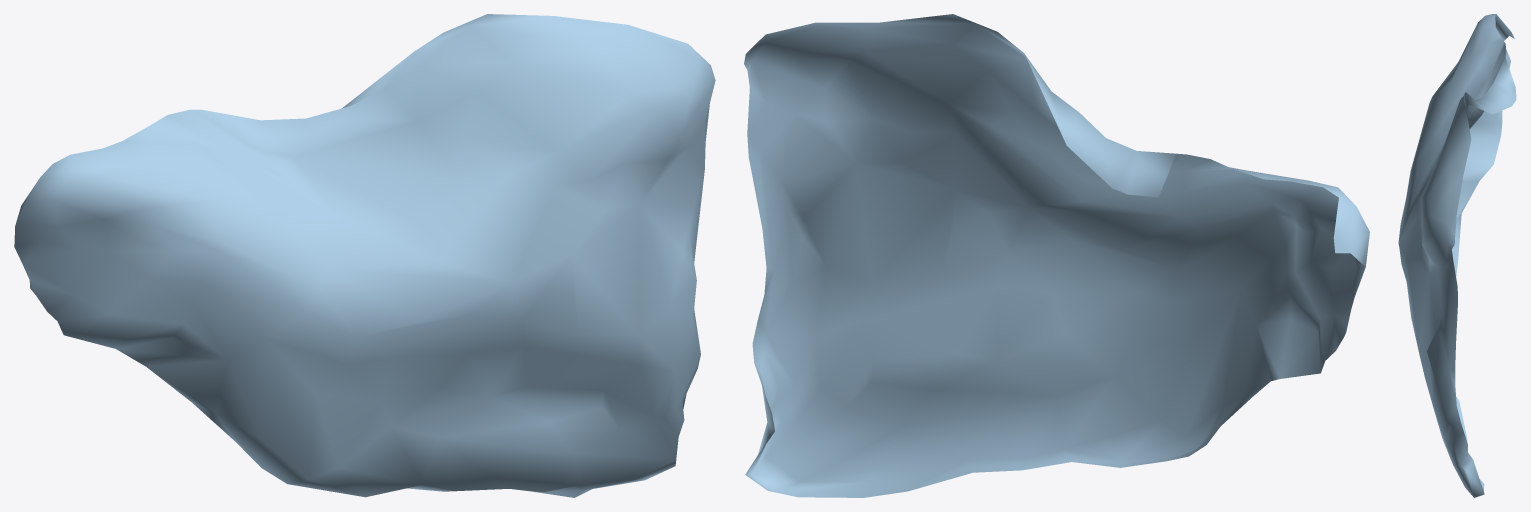
File: RS-4Z_ice00.fbx
The picture shows the model from 3 angles, left to right: view 1: azimuth 30°, elevation 25°; view 2: azimuth 150°, elevation 25°; view 3: azimuth 270°, elevation 25°; orthographic projection. The views are drawn at different scales.
Parts seen in each view (by area): view 1: RS-4Z_ice00.001; view 2: RS-4Z_ice00.001; view 3: RS-4Z_ice00.001.
Part boxes in pixels (x1,y1,x2,y2): RS-4Z_ice00.001: (14, 14, 715, 497); RS-4Z_ice00.001: (744, 14, 1369, 497); RS-4Z_ice00.001: (1398, 14, 1516, 497).
Bounding box in the file's own units: 4880 × 3624 × 1143.
